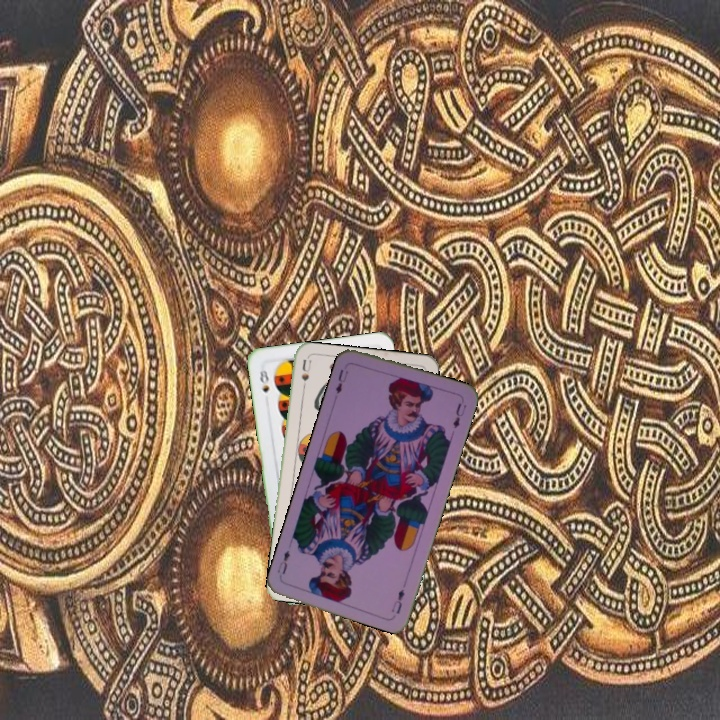EU: (331, 365, 351, 396), (387, 585, 407, 616)
S8: (256, 366, 271, 395)
SU: (297, 356, 313, 397)
